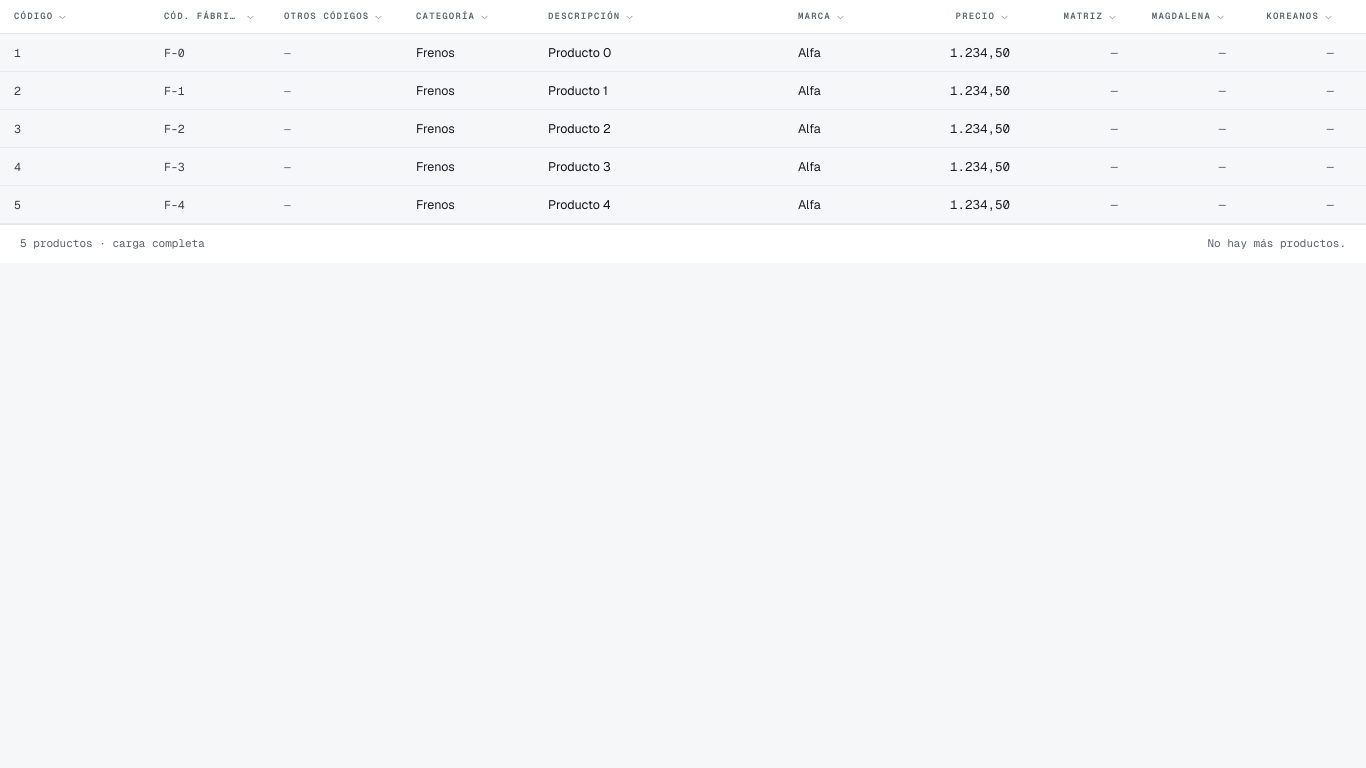
it: panel de lista de valores: se aplica al instante › buscar espera 250 ms, manda la búsqueda al servidor y cambia el rótulo del maestro
Expected: the row that starts with "F-0" is shown, [0,34,1365,72]
Click the button "Marca" at (842, 17), box [784,0,900,34]
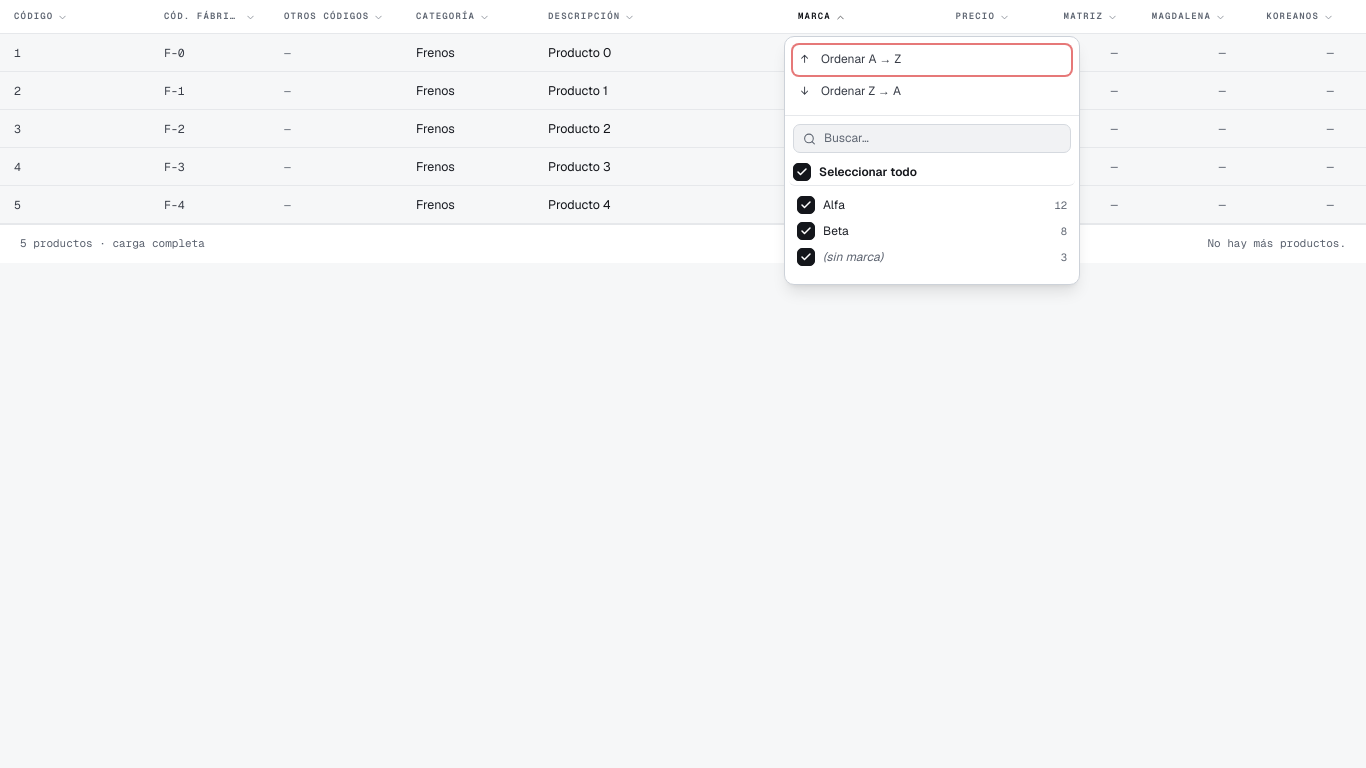
Expected: the checkbox labelled "Alfa 12" is shown, [797,196,815,214]
Type "be" into the search field named "Buscar en Marca" at (932, 139), box [793,124,1071,153]
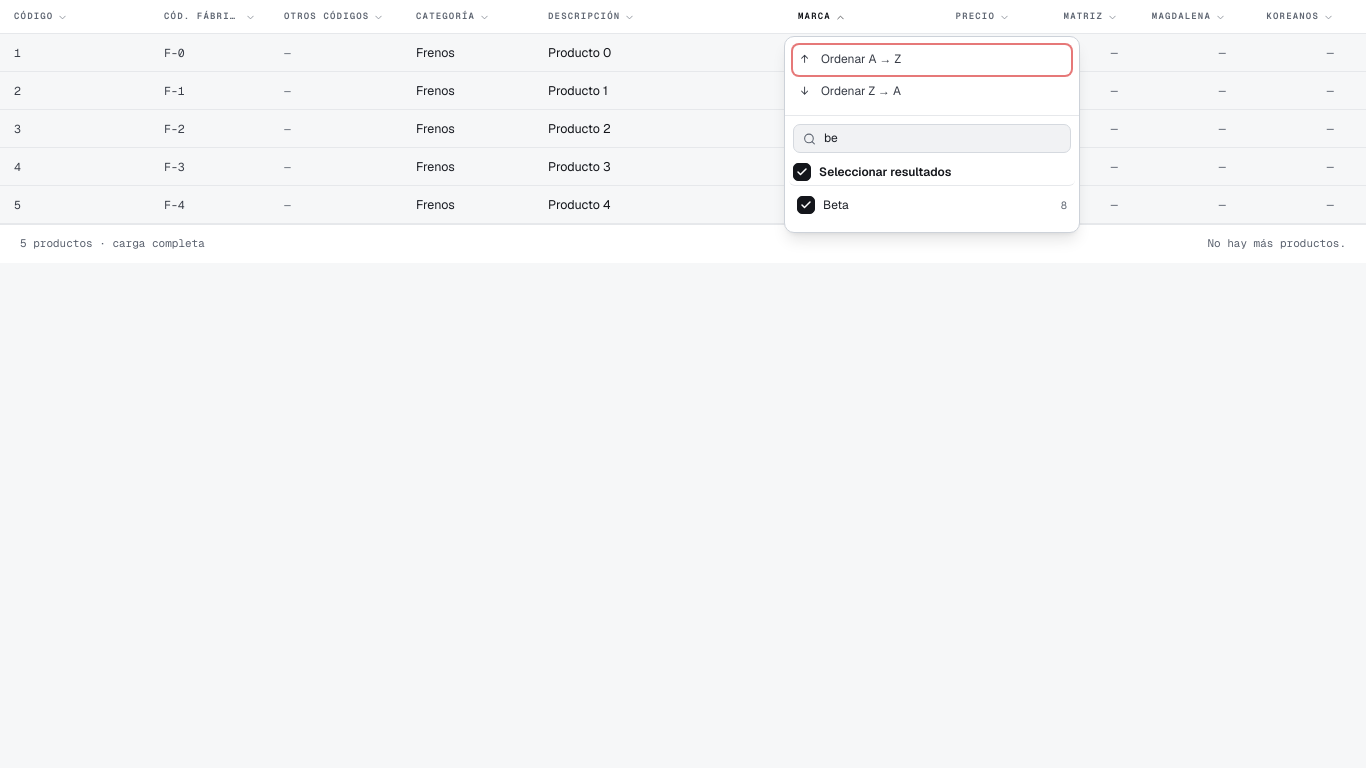
Expected: the text "Seleccionar resultados" is shown, [819,164,951,181]
